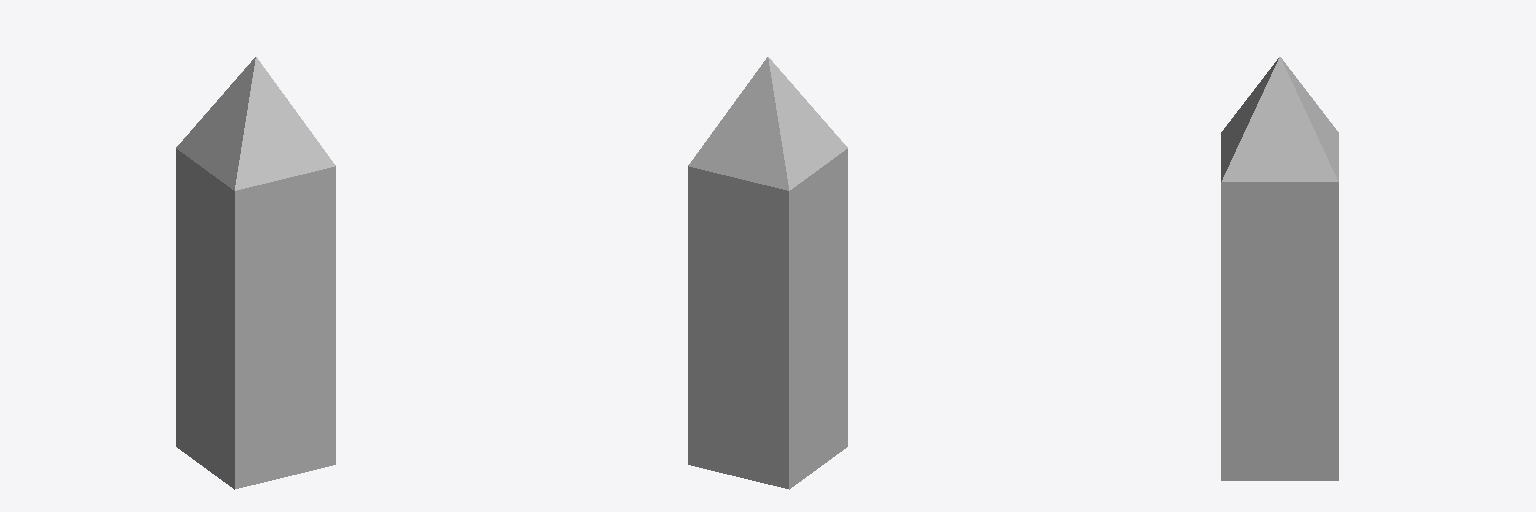
File: single_shard.obj
3 renders of one model, left to right at view 1: azimuth 30°, elevation 25°; view 2: azimuth 150°, elevation 25°; view 3: azimuth 270°, elevation 25°, orthographic.
Visible parts, largest first — view 1: Cube; view 2: Cube; view 3: Cube.
Boxes of the visible parts, <box> form: Cube: <box>176,57,335,489</box>; Cube: <box>688,57,847,489</box>; Cube: <box>1221,57,1338,480</box>.
Size of the model in its own units: 0.2 by 0.7514 by 0.2.